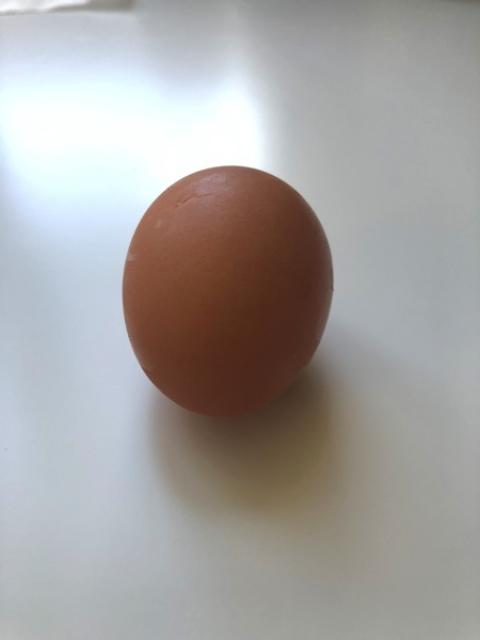Roto: (121, 163, 334, 416)
